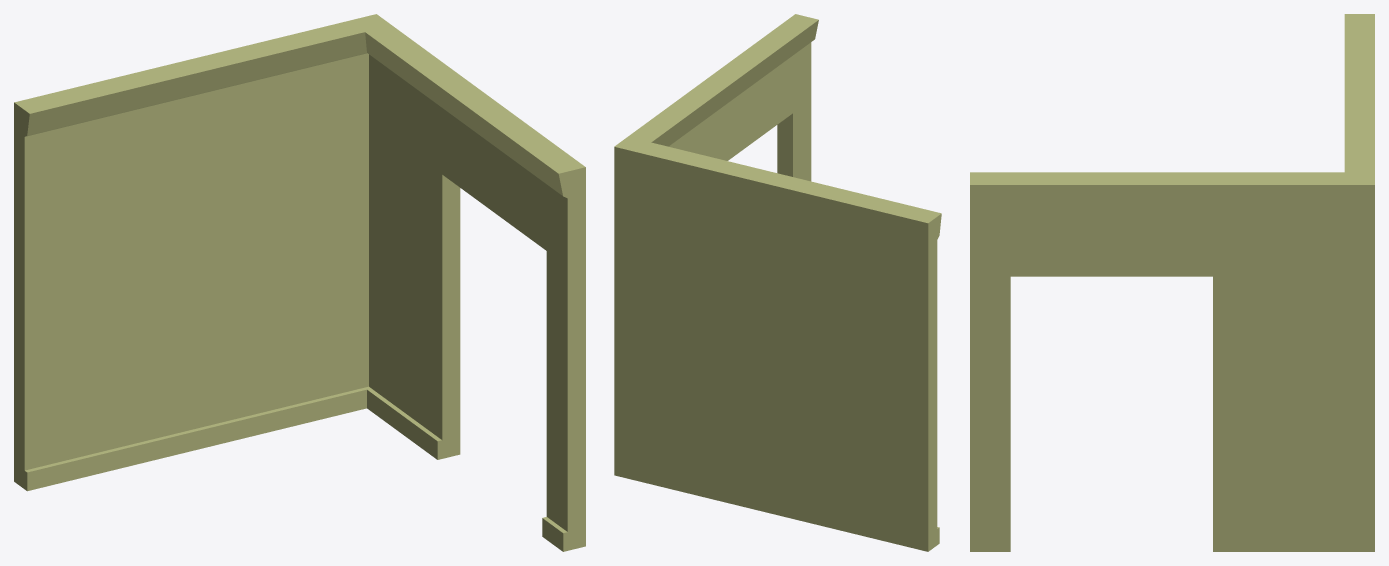
File: Wal_4_5.fbx
3 views of the same model, side by side, from view 1: azimuth 30°, elevation 25°; view 2: azimuth 150°, elevation 25°; view 3: azimuth 270°, elevation 25° (orthographic). The views are drawn at different scales.
Parts seen in each view (by area): view 1: polySurface1965; view 2: polySurface1965; view 3: polySurface1965.
Part boxes in pixels (x1,y1,x2,y2): polySurface1965: [14, 14, 585, 551]; polySurface1965: [614, 14, 941, 551]; polySurface1965: [970, 14, 1374, 551].
Size of the model in its own units: 4 by 4 by 4.
1 material, 1 textured.
